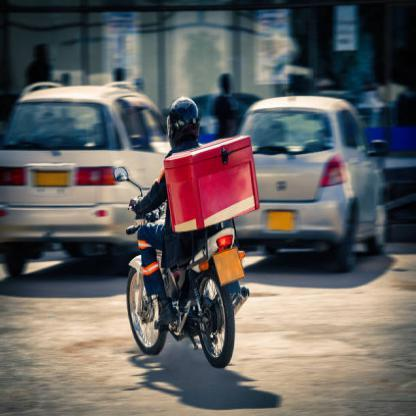Motorcycle: (115, 174, 248, 371)
